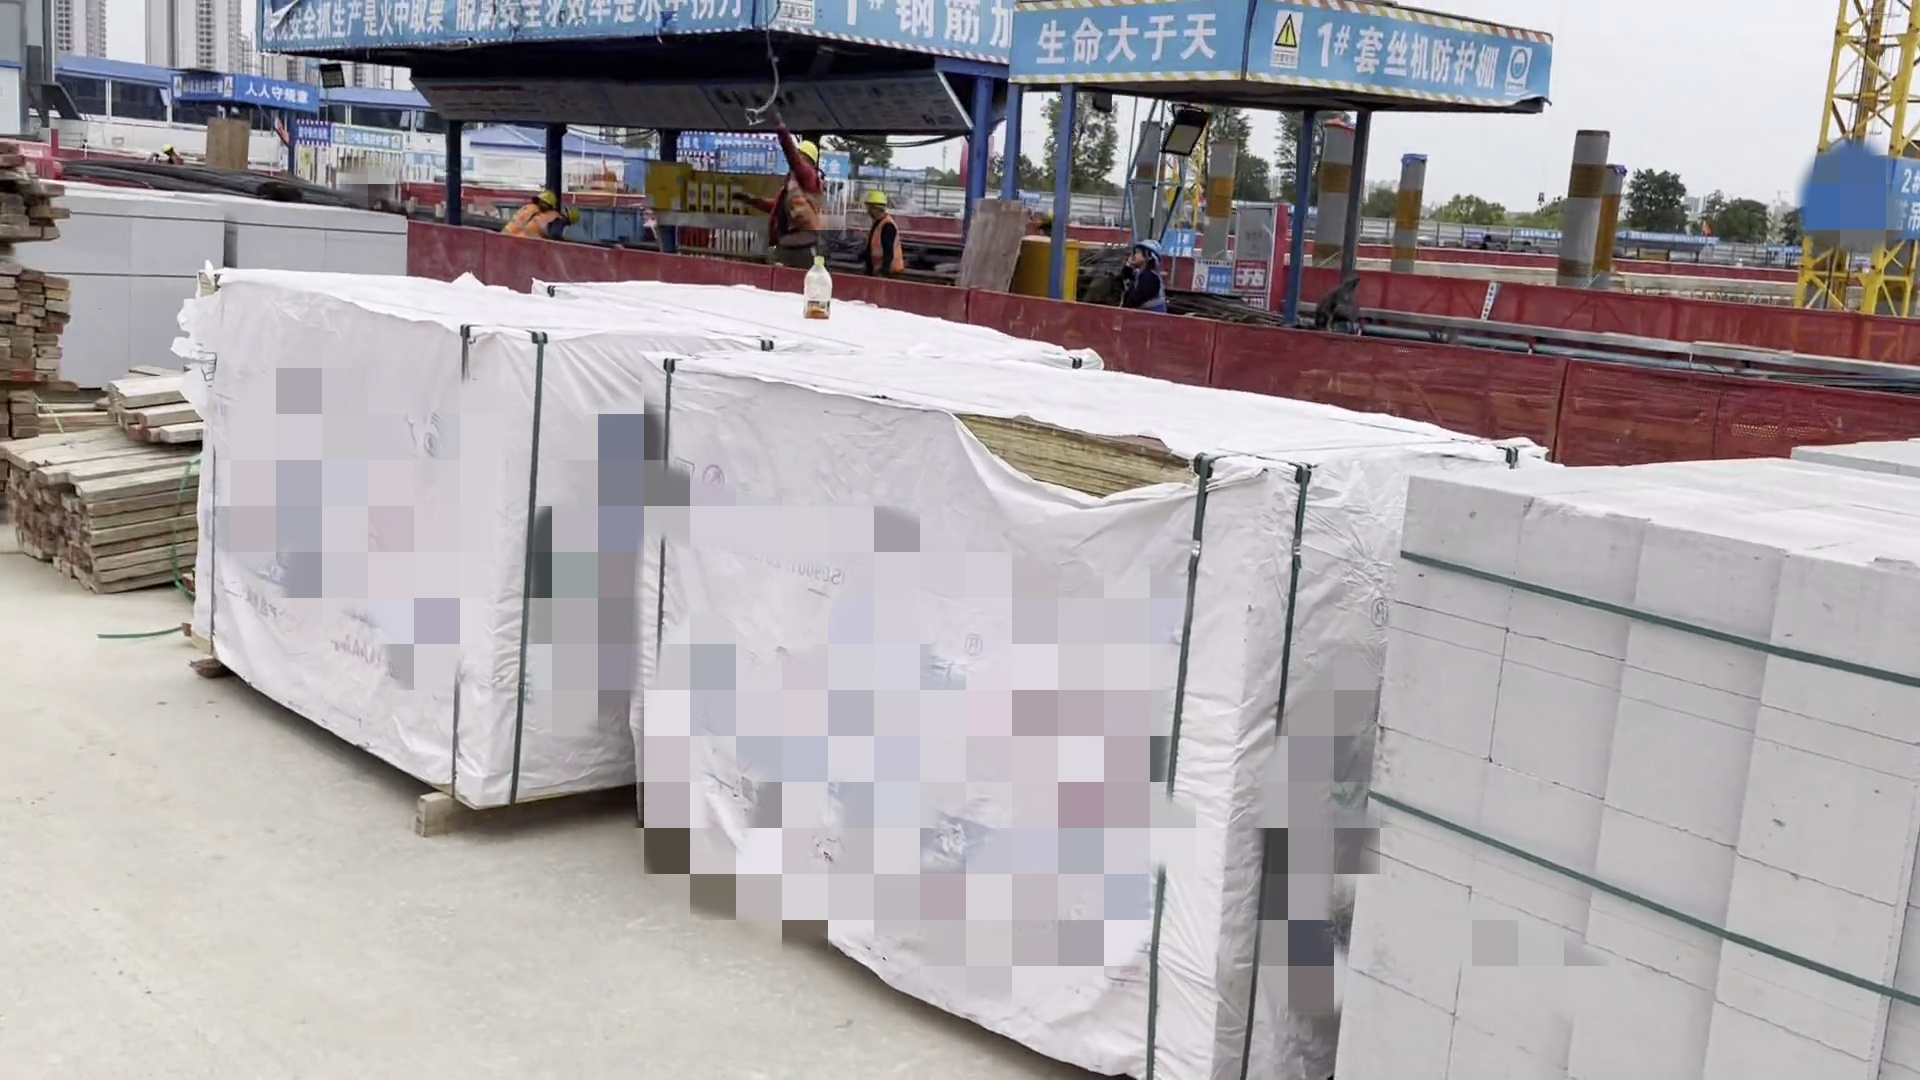brick: (1284, 429, 1906, 1080)
helmet: (792, 134, 821, 162), (531, 188, 561, 213), (862, 193, 888, 217)
person: (764, 125, 830, 269), (854, 186, 903, 269), (1116, 236, 1164, 308), (505, 186, 570, 240)
slogan: (1028, 14, 1532, 120)
vest: (777, 175, 816, 252), (508, 206, 560, 240), (861, 219, 897, 267)
